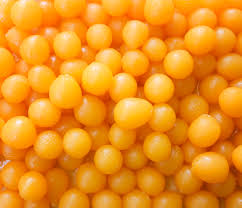tongyod: (112, 96, 158, 134), (189, 148, 232, 184), (9, 1, 53, 34), (46, 75, 86, 109), (1, 116, 36, 153), (26, 97, 67, 127), (182, 21, 217, 56), (187, 112, 221, 147), (158, 51, 196, 79), (142, 70, 176, 101), (83, 60, 113, 95), (119, 48, 150, 81), (188, 2, 217, 37), (61, 126, 93, 157), (213, 85, 242, 119), (136, 166, 167, 197), (1, 73, 31, 105), (18, 170, 47, 202), (52, 31, 85, 59), (75, 164, 108, 192), (19, 35, 49, 64), (121, 18, 152, 46), (140, 1, 176, 24), (96, 144, 124, 173), (85, 22, 113, 50), (143, 134, 173, 160), (81, 3, 114, 26), (217, 48, 242, 74), (216, 7, 242, 32)
